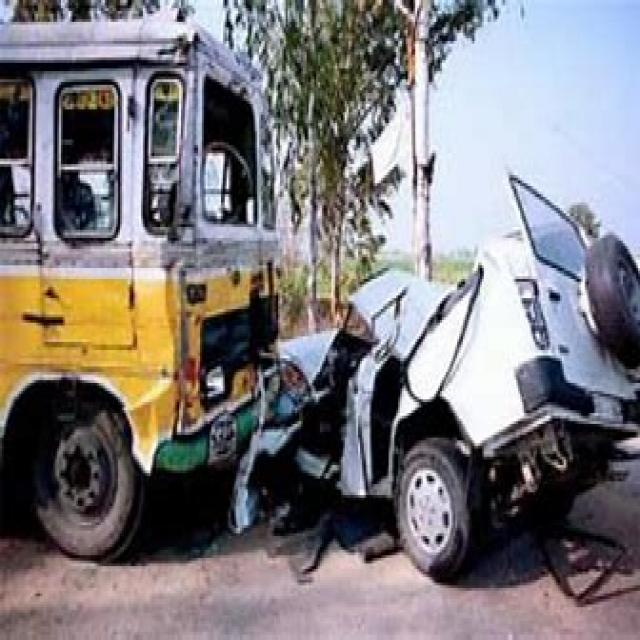Accident: (41, 11, 640, 612)
